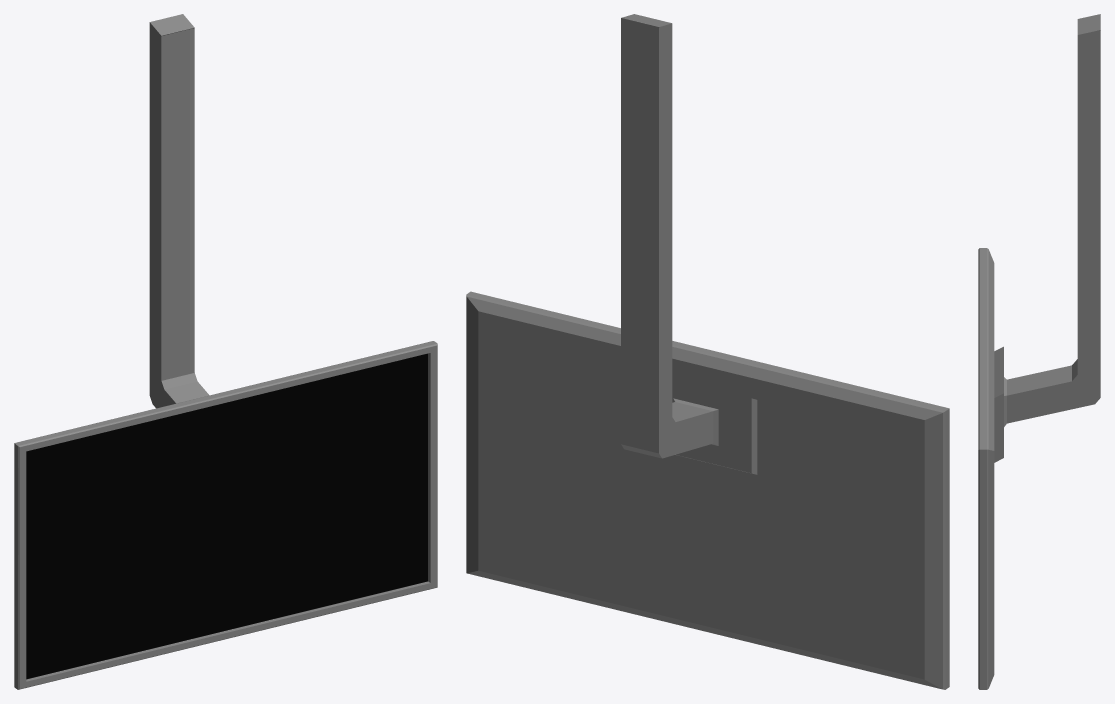
3 views of the same model, side by side, from view 1: azimuth 30°, elevation 25°; view 2: azimuth 150°, elevation 25°; view 3: azimuth 270°, elevation 25° (orthographic). The views are drawn at different scales.
Visible parts, largest first — view 1: TV; view 2: TV; view 3: TV.
Part boxes in pixels (x1=…): TV: x1=14, y1=14, x2=437, y2=689; TV: x1=466, y1=14, x2=949, y2=689; TV: x1=978, y1=14, x2=1100, y2=689.
Bounding box in the file's own units: 504 × 661 × 129.
Materials: 1 (1 with a texture image).
